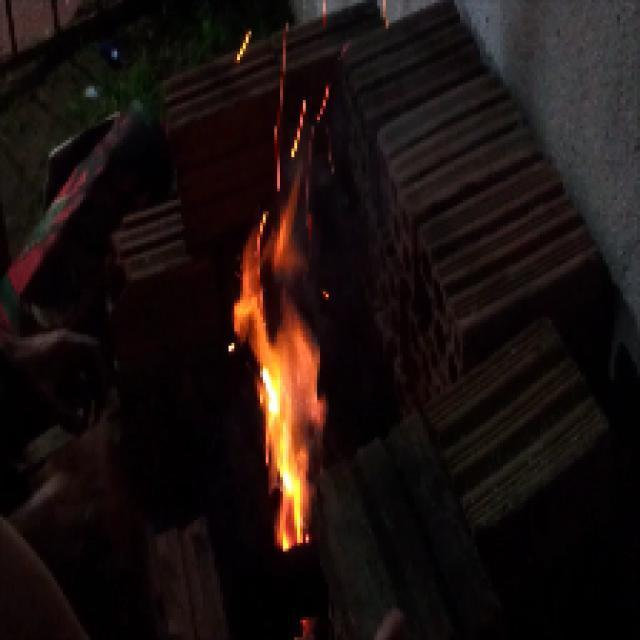Fire: (260, 248, 387, 530)
